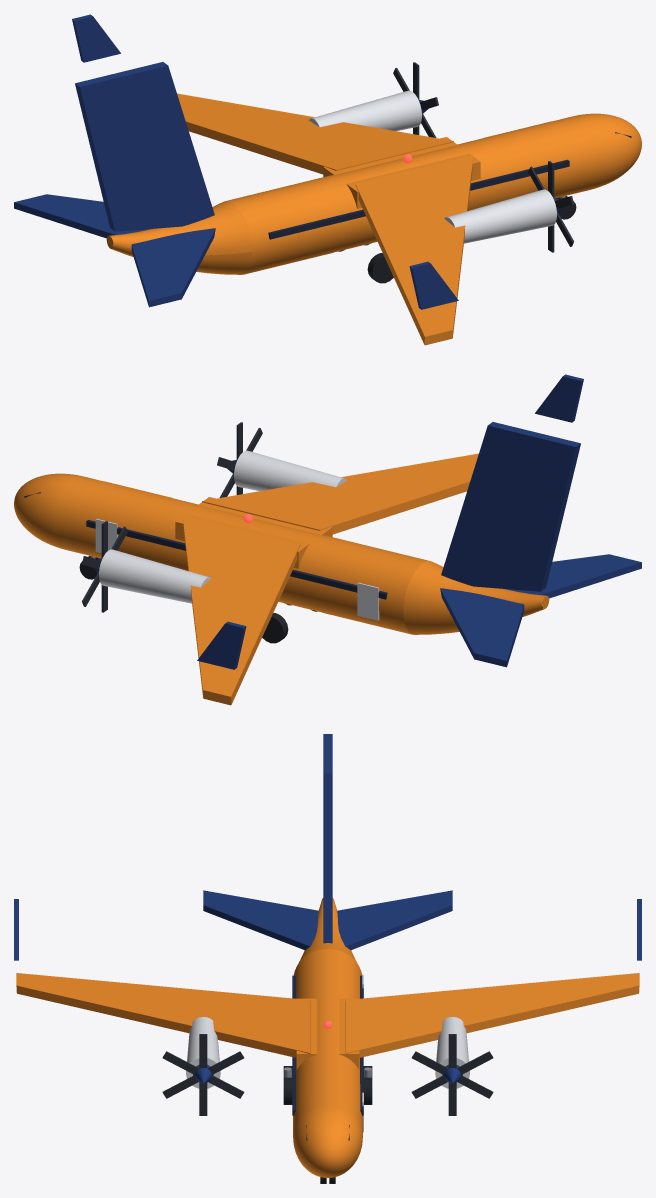
Rendered from turboprop-orange.glb.
3 renders of one model, top to bottom at view 1: azimuth 30°, elevation 25°; view 2: azimuth 150°, elevation 25°; view 3: azimuth 270°, elevation 25°, orthographic. The views are drawn at different scales.
Parts seen in each view (by area): view 1: Fin, Fuselage, WingR, WingL, Nacelle (×2), StabR, TailCone, Winglet (×2), LiveryBand, Nose, StabL, Windows (+2 smaller); view 2: Fin, Fuselage, WingL, WingR, Nacelle (×2), StabL, TailCone, LiveryBand, Winglet (×2), Nose, StabR, Fairing (+3 smaller); view 3: WingR, WingL, Fuselage, Nose, StabR, StabL, Blade (×4), Nacelle (×2), Fin, LiveryBand, Fairing, TailCone (+1 smaller).
Part boxes in pixels (bbox=[...]): Fin: bbox=[75, 62, 214, 231]; Fuselage: bbox=[225, 116, 600, 274]; WingR: bbox=[355, 155, 473, 345]; WingL: bbox=[177, 93, 453, 174]; Nacelle (×2): bbox=[309, 90, 556, 243]; StabR: bbox=[131, 228, 215, 307]; TailCone: bbox=[109, 201, 252, 274]; Winglet (×2): bbox=[72, 14, 458, 309]; LiveryBand: bbox=[484, 121, 575, 171]; Nose: bbox=[574, 113, 641, 189]; StabL: bbox=[14, 194, 150, 238]; Windows: bbox=[268, 159, 569, 239]; Fin: bbox=[441, 422, 580, 591]; Fuselage: bbox=[55, 476, 430, 634]; WingL: bbox=[182, 515, 300, 705]; WingR: bbox=[202, 453, 478, 534]; Nacelle (×2): bbox=[99, 450, 346, 603]; StabL: bbox=[440, 588, 524, 667]; TailCone: bbox=[403, 561, 546, 634]; LiveryBand: bbox=[77, 481, 171, 558]; Winglet (×2): bbox=[197, 374, 583, 669]; Nose: bbox=[14, 473, 81, 549]; StabR: bbox=[505, 554, 641, 598]; Fairing: bbox=[175, 497, 332, 568]; WingR: bbox=[16, 973, 310, 1057]; WingL: bbox=[345, 973, 639, 1057]; Fuselage: bbox=[293, 949, 362, 1136]; Nose: bbox=[293, 1105, 362, 1177]; StabR: bbox=[203, 890, 318, 950]; StabL: bbox=[337, 890, 452, 950]; Blade (×4): bbox=[162, 1051, 493, 1098]; Nacelle (×2): bbox=[186, 1017, 469, 1088]; Fin: bbox=[323, 734, 332, 943]; LiveryBand: bbox=[296, 1065, 362, 1122]; Fairing: bbox=[296, 998, 359, 1069]; TailCone: bbox=[298, 898, 357, 963].
Size of the model in its own units: 24.01 by 10.2 by 25.2.
